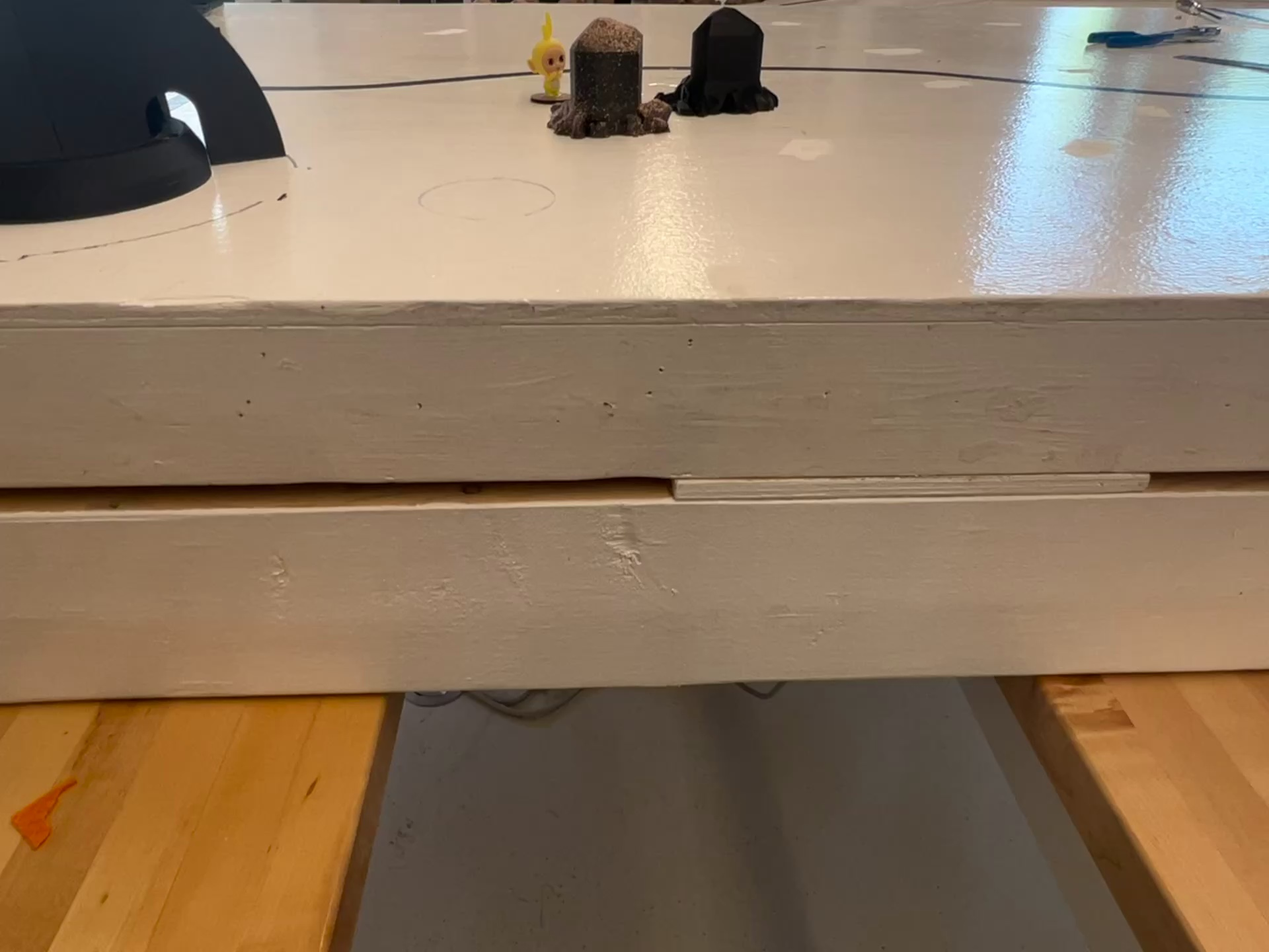teletubby: (528, 13, 566, 99)
